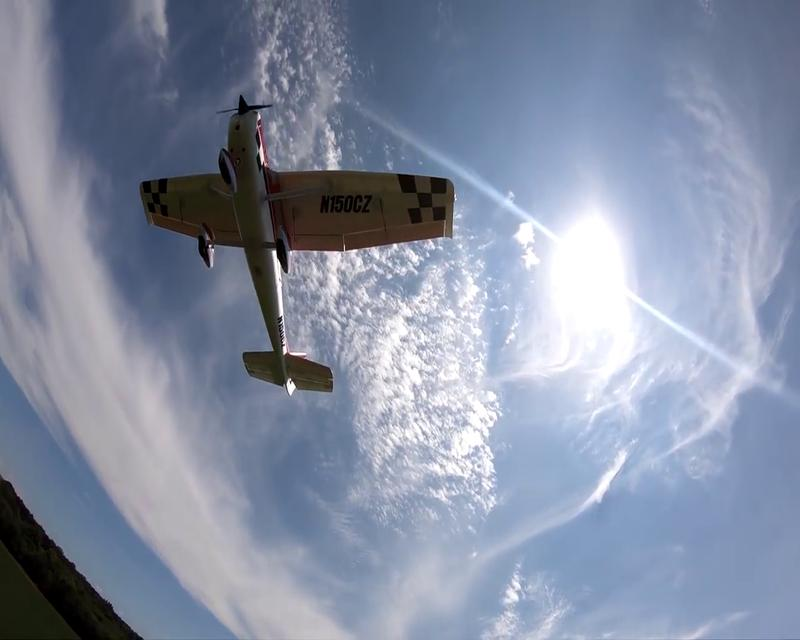UAV: (139, 92, 455, 394)
